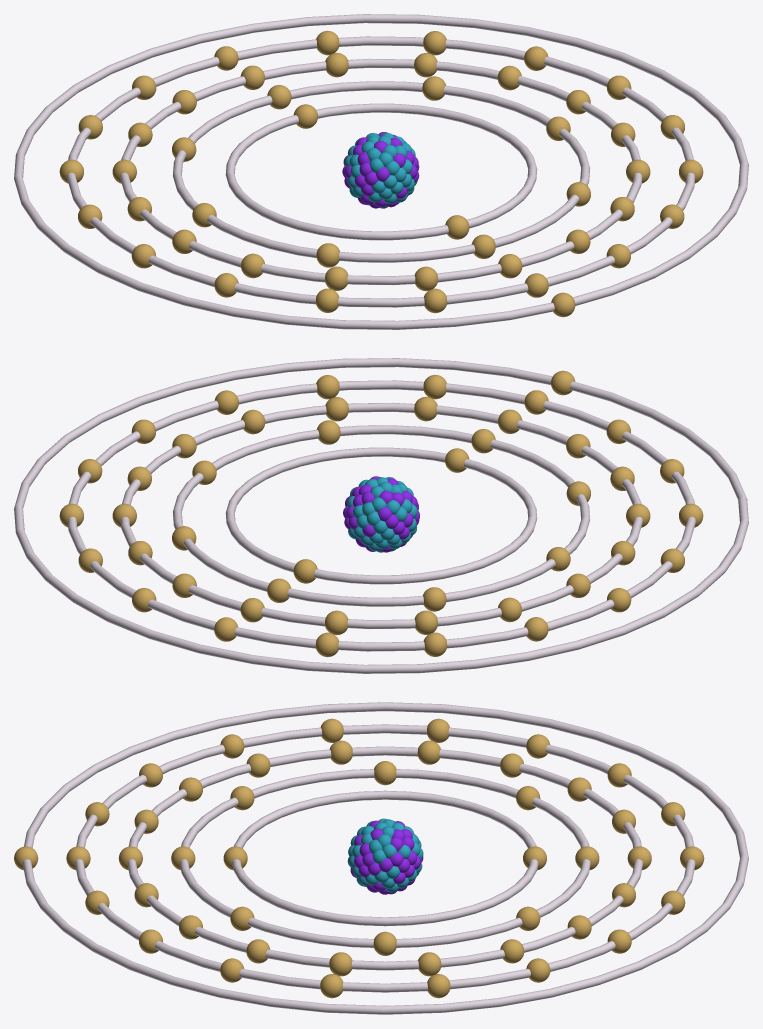
File: prata.glb
3 renders of one model, top to bottom at view 1: azimuth 30°, elevation 25°; view 2: azimuth 150°, elevation 25°; view 3: azimuth 270°, elevation 25°, orthographic.
Visible parts, largest first — view 1: Orbita_5, Orbita_4, Orbita_3, Orbita_2, Orbita_1, Nucleo_Completo; view 2: Orbita_5, Orbita_4, Orbita_3, Orbita_2, Orbita_1, Nucleo_Completo; view 3: Orbita_5, Orbita_4, Orbita_3, Orbita_2, Orbita_1, Nucleo_Completo.
Part boxes in pixels (x1,y1,x2,y2): Orbita_5: (14,14,748,329); Orbita_4: (67,36,695,307); Orbita_3: (120,58,642,285); Orbita_2: (173,81,589,262); Orbita_1: (225,103,537,240); Nucleo_Completo: (342,132,419,208); Orbita_5: (14,358,748,673); Orbita_4: (67,380,695,651); Orbita_3: (120,402,642,629); Orbita_2: (173,425,589,606); Orbita_1: (225,447,537,584); Nucleo_Completo: (343,476,419,552); Orbita_5: (22,702,748,1014); Orbita_4: (75,724,695,992); Orbita_3: (127,746,643,970); Orbita_2: (179,769,590,947); Orbita_1: (232,790,538,926); Nucleo_Completo: (347,818,423,894).
Size of the model in its own units: 4.86 by 0.5083 by 4.91.
